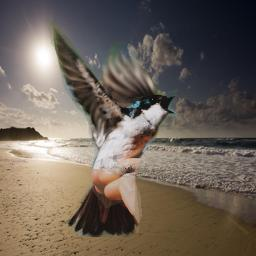Swallow: (45, 17, 178, 237)
